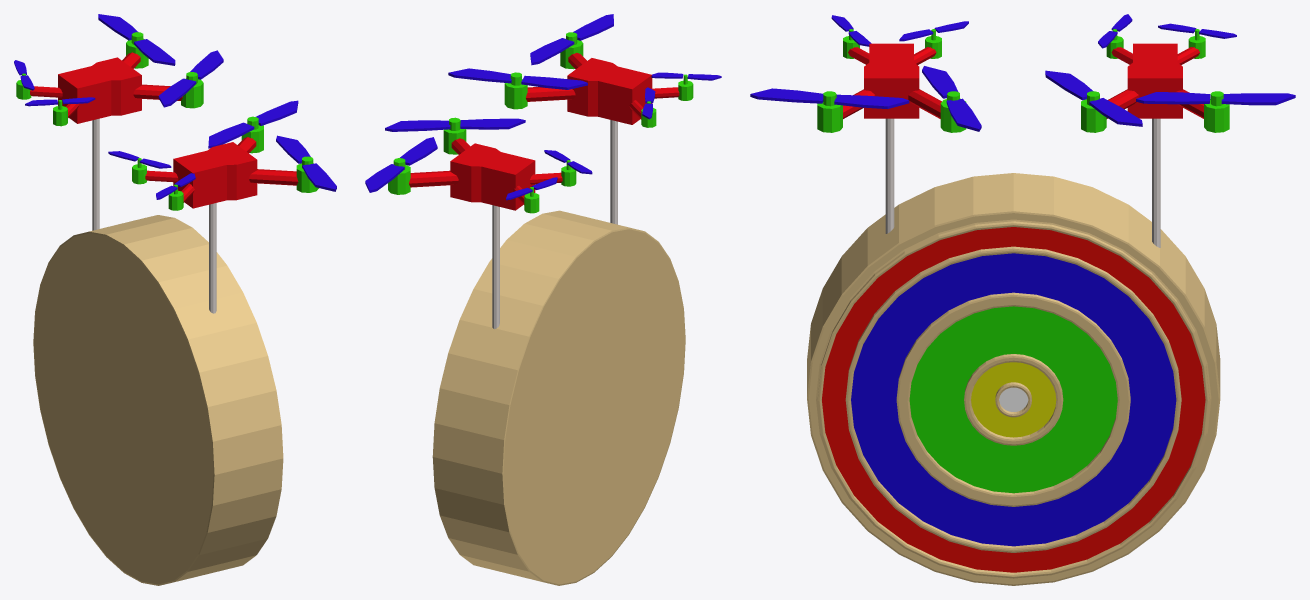
File: target_low (1).fbx
The picture shows the model from 3 angles, left to right: view 1: azimuth 30°, elevation 25°; view 2: azimuth 150°, elevation 25°; view 3: azimuth 270°, elevation 25°; orthographic projection. The views are drawn at different scales.
Parts seen in each view (by area): view 1: Cylinder.004, Cube.004, Cube.007, Cylinder.005, Cube.005, Cube.016, Cube.010, Cube.012, Cube.014; view 2: Cylinder.004, Cube.004, Cube.007, Cylinder.005, Cube.005, Cube.016, Cube.014, Cube.008, Cube.012; view 3: Cylinder.004, Cube.004, Cube.007, Cylinder.005, Cube.016, Cube.005, Cube.012.
Boxes of the visible parts, box(x1,y1,x2,y2) form: Cylinder.004: box(33, 215, 283, 585); Cube.004: box(14, 14, 223, 126); Cube.007: box(173, 142, 257, 208); Cylinder.005: box(92, 118, 216, 313); Cube.005: box(208, 100, 298, 148); Cube.016: box(276, 135, 336, 191); Cube.010: box(249, 169, 298, 185); Cube.012: box(296, 156, 318, 192); Cube.014: box(241, 116, 263, 153); Cylinder.004: box(432, 210, 685, 585); Cube.004: box(365, 117, 592, 213); Cube.007: box(567, 58, 652, 124); Cylinder.005: box(492, 120, 617, 329); Cube.005: box(448, 68, 587, 89); Cube.016: box(530, 14, 613, 65); Cube.014: box(504, 72, 527, 109); Cube.008: box(526, 87, 575, 101); Cube.012: box(560, 32, 583, 69); Cylinder.004: box(807, 173, 1220, 585); Cube.004: box(1045, 14, 1295, 132); Cube.007: box(864, 43, 919, 118); Cylinder.005: box(885, 118, 1160, 247); Cube.016: box(750, 88, 909, 108); Cube.005: box(922, 66, 981, 131); Cube.012: box(817, 91, 842, 132).
Bounding box in the file's own units: 97.73 × 201 × 195.
